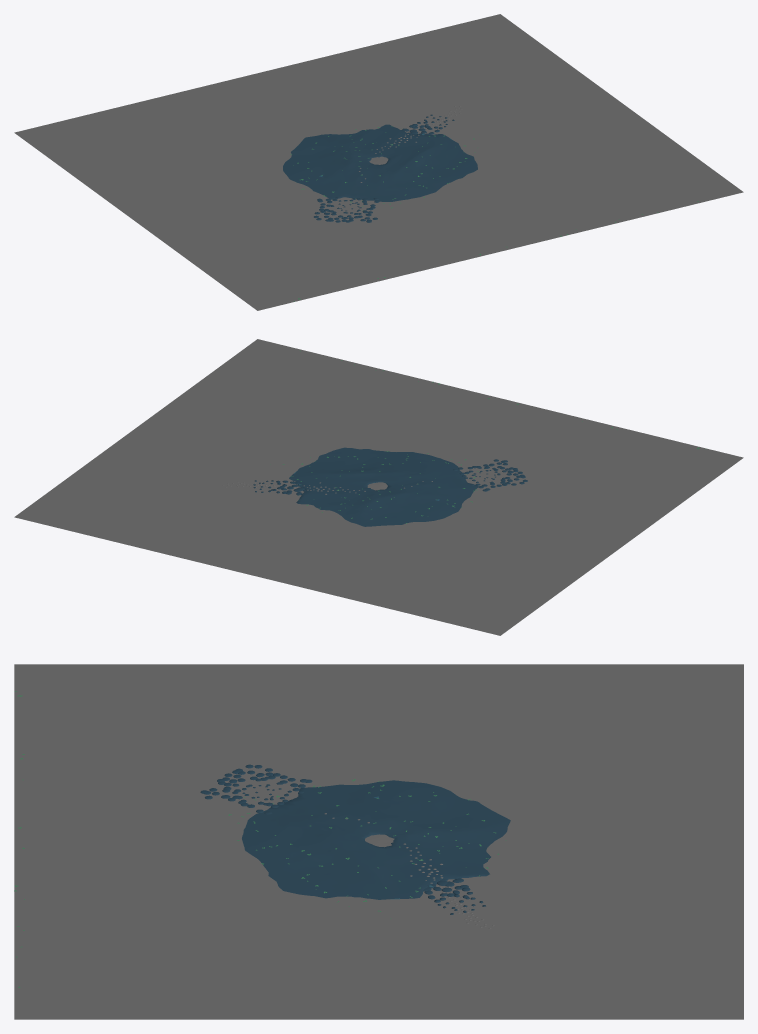
Rendered from Ground_Lowpoly.fbx.
3 renders of one model, top to bottom at view 1: azimuth 30°, elevation 25°; view 2: azimuth 150°, elevation 25°; view 3: azimuth 270°, elevation 25°, orthographic. The views are drawn at different scales.
Visible parts, largest first — view 1: Ground; view 2: Ground; view 3: Ground.
Boxes of the visible parts, x1=… form: Ground: x1=14, y1=14, x2=743, y2=310; Ground: x1=14, y1=339, x2=743, y2=635; Ground: x1=14, y1=664, x2=743, y2=1019.
Bounding box in the file's own units: 10300 × 91.64 × 8937.
Materials: 1 (1 with a texture image).
